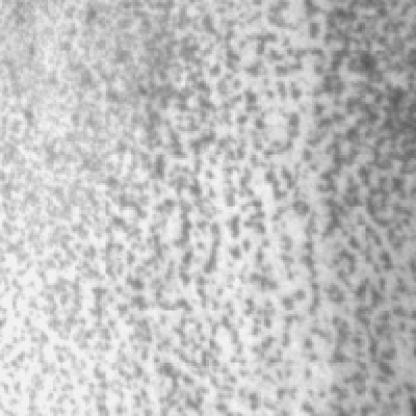pitted_surface: (0, 2, 406, 416)
